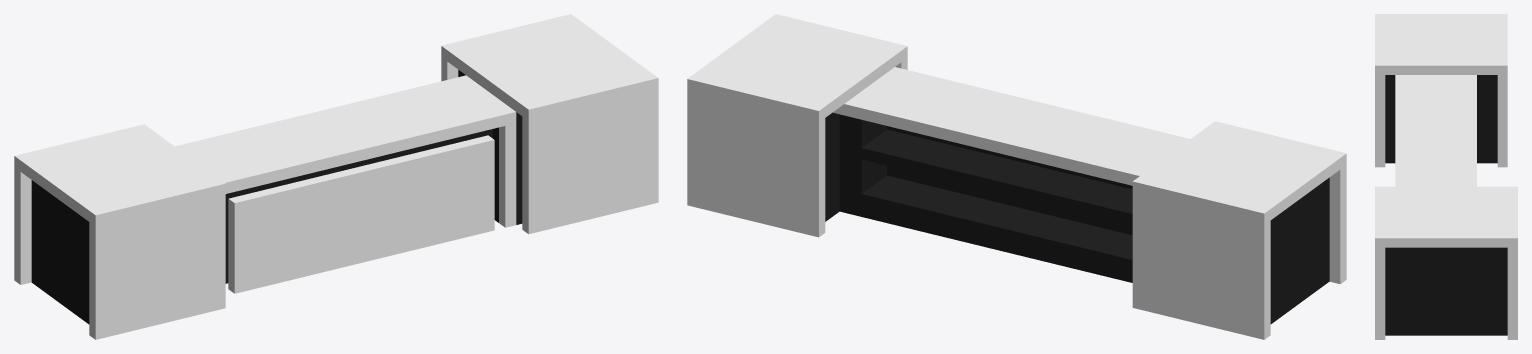
Rendered from ReceptionDesk.obj.
3 views of the same model, side by side, from view 1: azimuth 30°, elevation 25°; view 2: azimuth 150°, elevation 25°; view 3: azimuth 270°, elevation 25° (orthographic). The views are drawn at different scales.
Bounding box in the file's own units: 5.2 × 1.1 × 1.4.
Materials: 1 (1 with a texture image).
